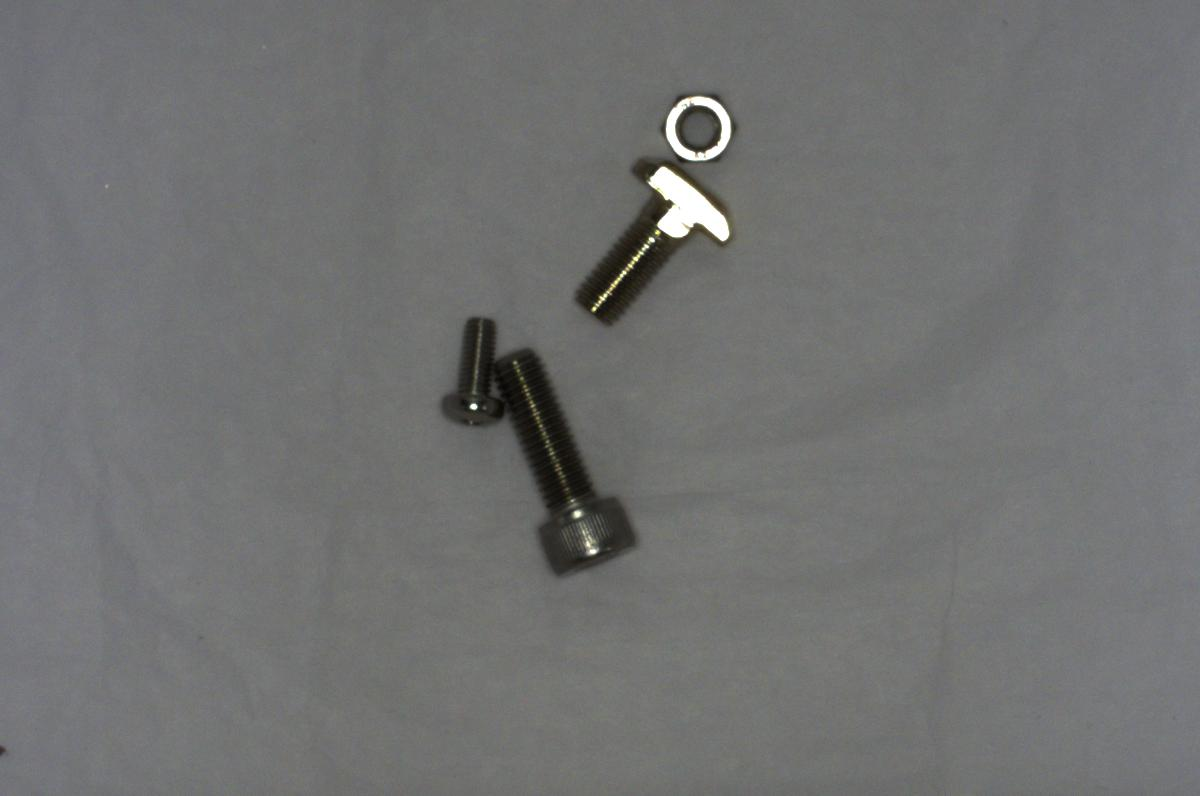Hexagon nut: (648, 85, 740, 168)
Hexagon screw: (498, 340, 650, 582)
Round head screw: (433, 310, 499, 427)
T-shaped screw: (570, 156, 744, 325)
